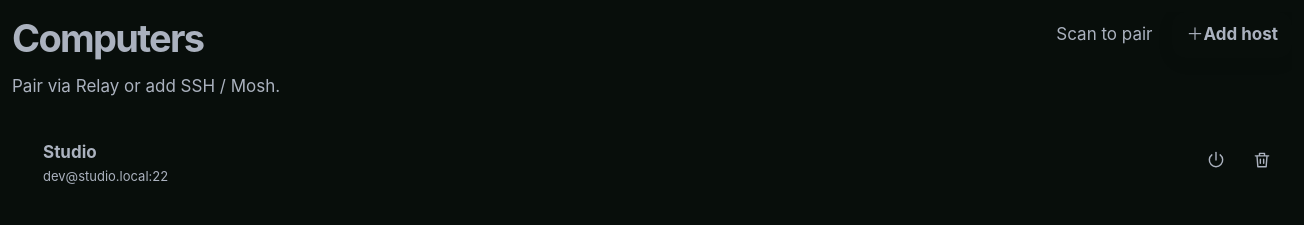
Test case: host authentication manager › hard-blocks a changed host key without offering a trust action
This screenshot has width=1304, height=225.
What coordinates should you click on to do the following:
click the button named "Connect"
I would click on:
 (1216, 160)
Its box is [1194,138,1238,182].
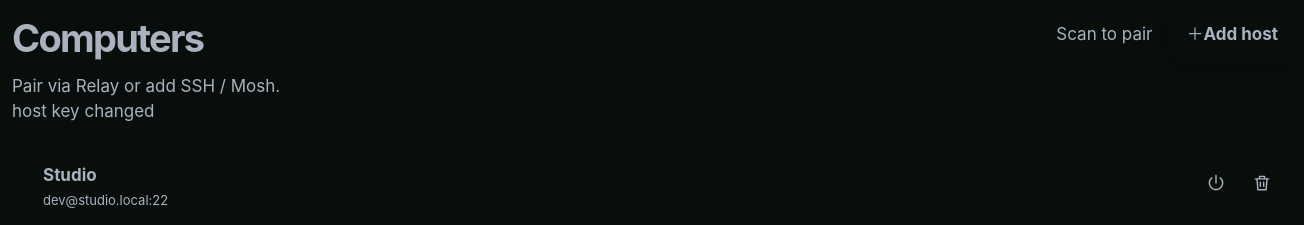
Expected: the message reads "host key changed", [12,101,154,121]
